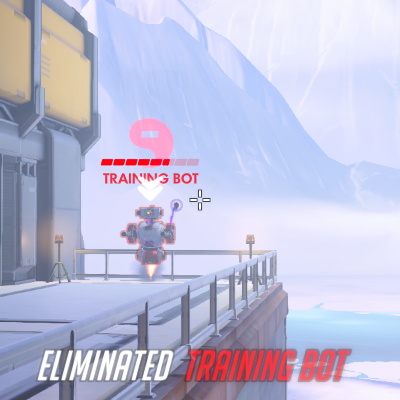hpbar: (100, 158, 200, 167)
